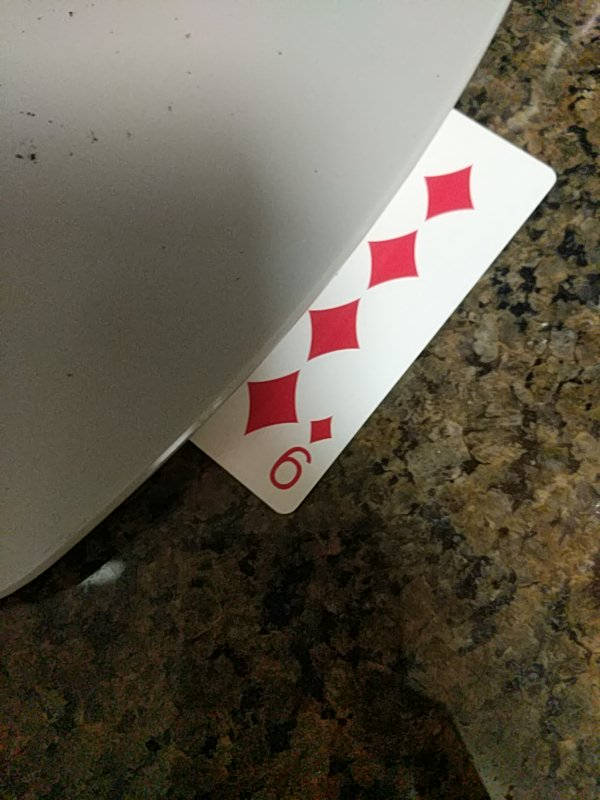Diamonds: (182, 105, 557, 518)
